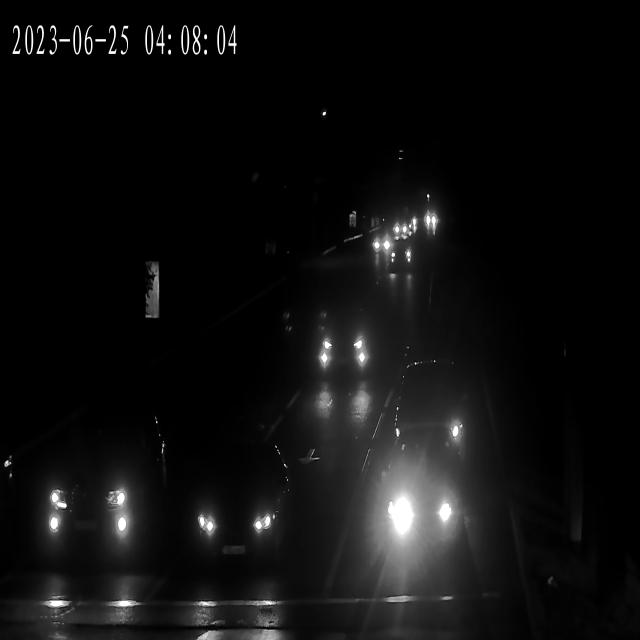Car: (31, 420, 160, 548), (179, 460, 292, 568), (394, 360, 472, 480), (362, 460, 456, 550), (314, 311, 372, 376), (386, 243, 411, 271), (385, 248, 410, 276), (390, 248, 414, 274), (367, 230, 391, 252), (368, 234, 393, 255), (390, 225, 410, 240), (393, 222, 412, 237), (390, 221, 408, 236), (422, 216, 439, 230)
